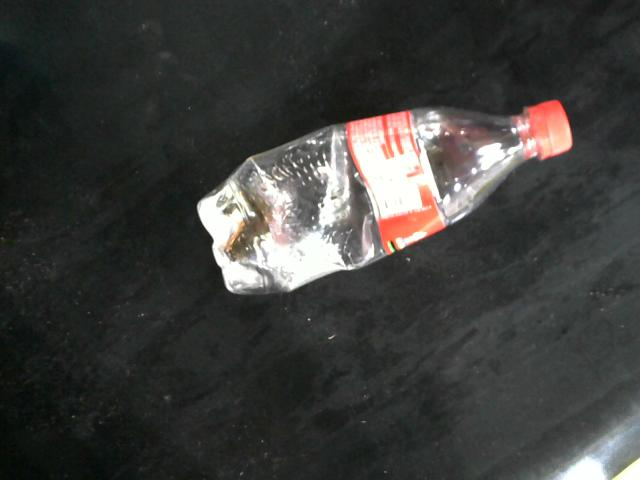bottle: (195, 99, 573, 294)
